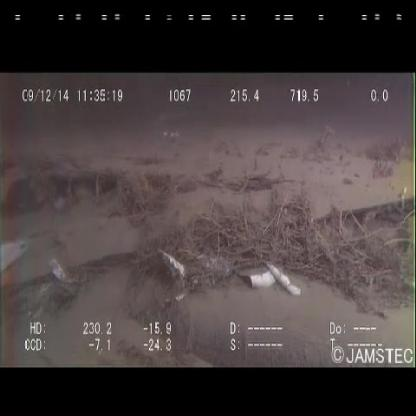Rác: (155, 244, 222, 301), (235, 254, 308, 306), (45, 251, 81, 292)
